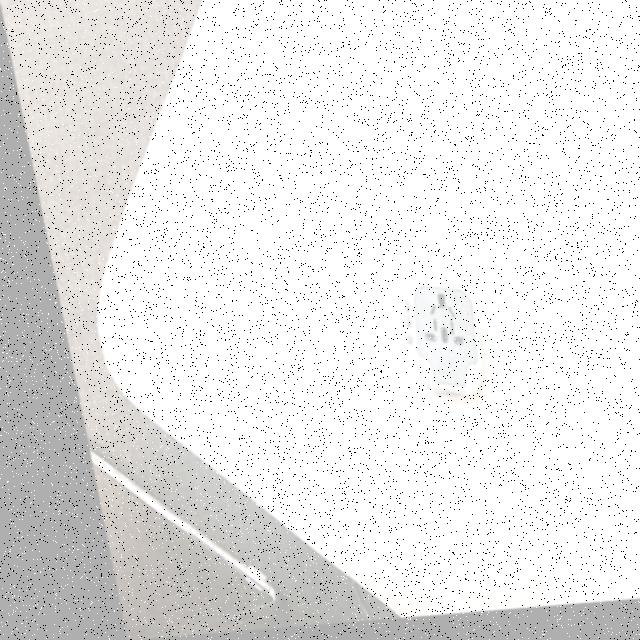adapter: (383, 282, 476, 405)
